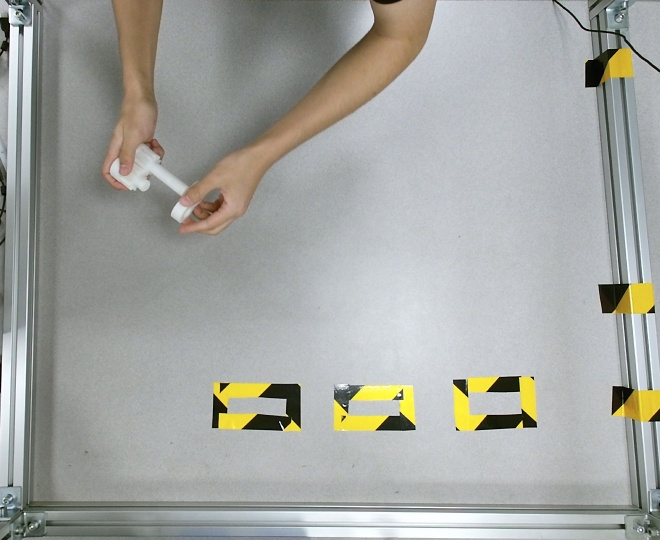stage_3: (108, 142, 191, 196)
